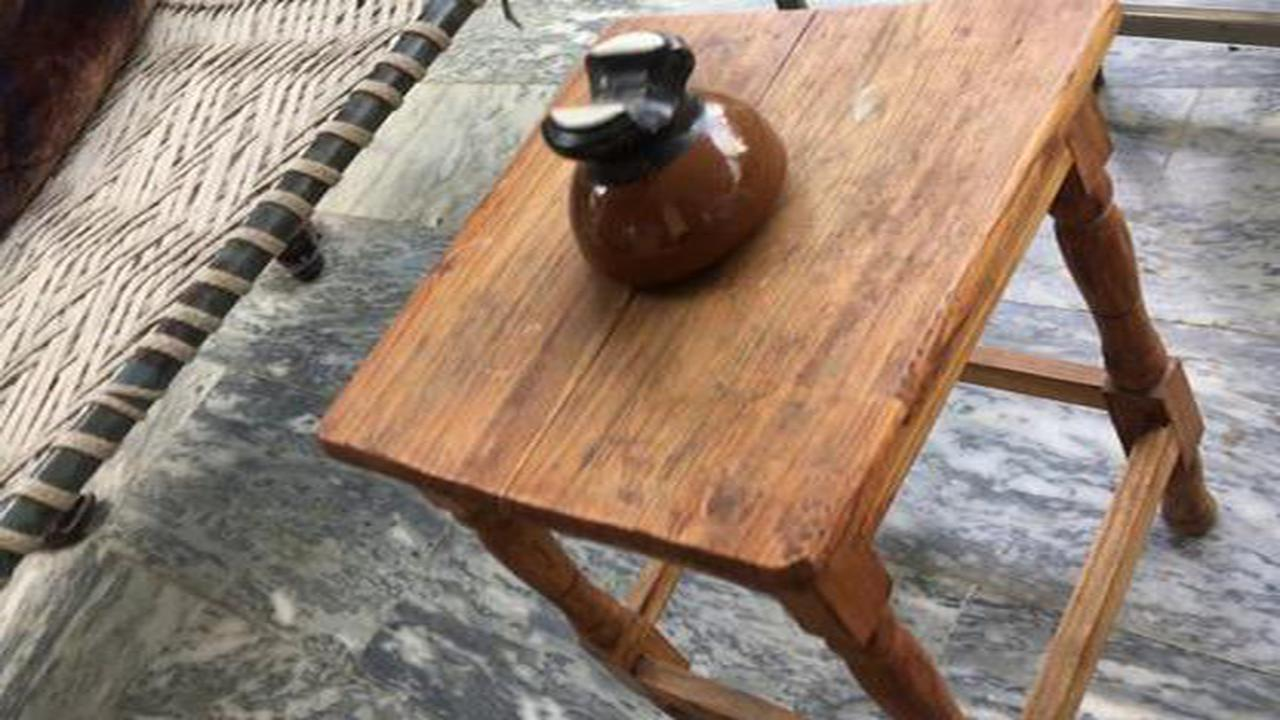insulator_pin: (533, 18, 801, 312)
